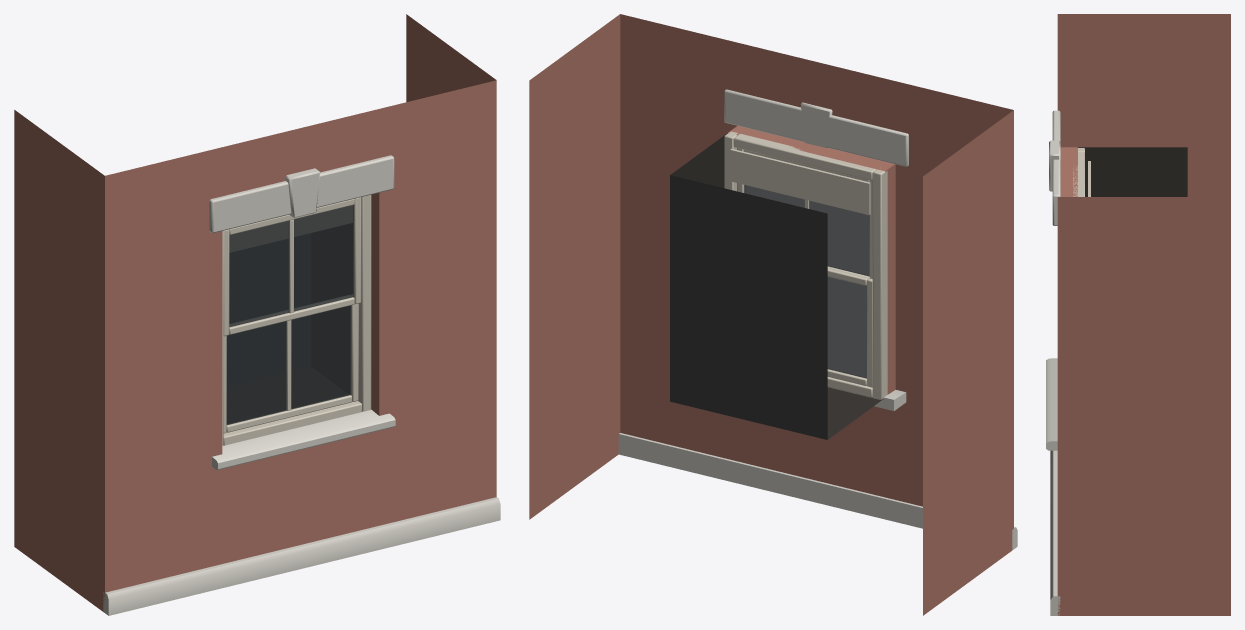
Rendered from upper_3a.glb.
The picture shows the model from 3 angles, left to right: view 1: azimuth 30°, elevation 25°; view 2: azimuth 150°, elevation 25°; view 3: azimuth 270°, elevation 25°; orthographic projection. The views are drawn at different scales.
Parts seen in each view (by area): view 1: upper_3a; view 2: upper_3a; view 3: upper_3a.
Boxes of the visible parts, <box> form: upper_3a: <box>14,14,500,615</box>; upper_3a: <box>529,14,1017,615</box>; upper_3a: <box>1046,14,1230,615</box>.
Bounding box in the file's own units: 3 × 3.2 × 1.28.
